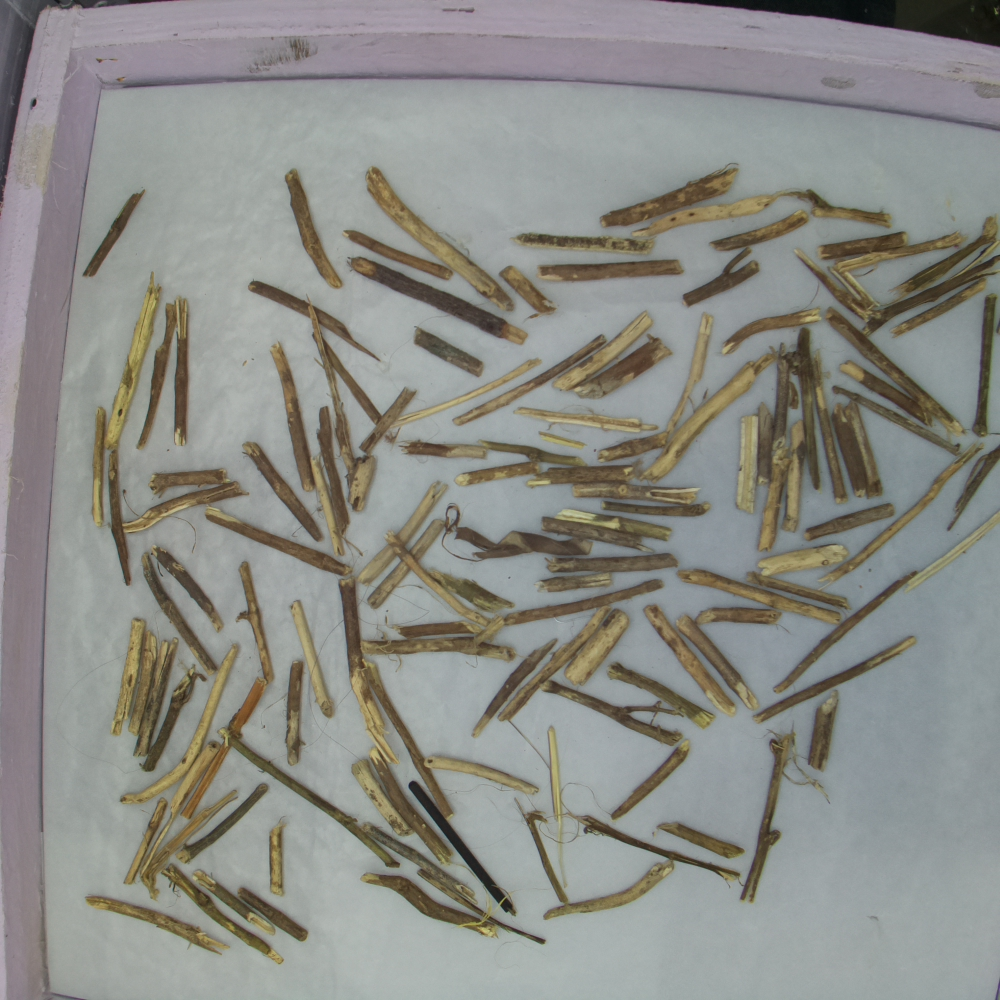kadi: (221, 726, 395, 865), (365, 159, 511, 312), (343, 251, 533, 347), (780, 572, 921, 688), (750, 635, 919, 724), (410, 778, 514, 912), (738, 730, 806, 913), (584, 811, 743, 885), (247, 275, 377, 362), (181, 687, 265, 815), (545, 677, 686, 746), (142, 746, 216, 875), (418, 871, 545, 945), (385, 535, 488, 624), (360, 869, 495, 936), (594, 169, 740, 230), (647, 603, 729, 711), (362, 481, 444, 585), (144, 558, 216, 674), (554, 310, 658, 390), (281, 168, 345, 295), (541, 863, 680, 921), (88, 891, 219, 950), (679, 611, 761, 705), (471, 642, 553, 735), (243, 446, 322, 541), (901, 220, 1000, 293), (915, 503, 1000, 588), (78, 190, 152, 286), (838, 358, 937, 428), (363, 524, 444, 608), (132, 299, 175, 454), (271, 344, 313, 500), (311, 309, 354, 458), (576, 333, 676, 397), (425, 747, 545, 799), (796, 246, 877, 322), (156, 546, 224, 634), (668, 314, 719, 430), (142, 675, 199, 776), (410, 316, 497, 381), (614, 745, 692, 817), (288, 604, 337, 715), (676, 252, 770, 308), (896, 281, 986, 336), (460, 524, 604, 558), (641, 190, 779, 222), (236, 563, 274, 677), (336, 581, 368, 712), (948, 447, 1000, 527), (356, 390, 418, 457), (370, 641, 521, 668), (568, 612, 626, 682), (108, 623, 143, 736), (657, 815, 748, 858), (799, 325, 823, 488), (240, 885, 307, 942), (124, 795, 166, 883), (140, 644, 172, 758), (309, 461, 345, 560), (106, 450, 132, 587), (516, 400, 651, 426), (555, 508, 676, 537), (509, 229, 658, 252), (804, 504, 891, 539), (815, 229, 917, 256), (759, 444, 784, 554), (506, 266, 558, 318), (538, 258, 680, 277), (546, 722, 569, 836), (171, 297, 188, 451), (813, 198, 900, 228), (975, 295, 994, 432), (128, 632, 153, 733), (286, 658, 307, 768), (756, 547, 854, 570), (551, 552, 681, 569), (821, 408, 845, 500), (404, 434, 492, 459), (91, 407, 108, 536), (813, 692, 836, 786), (595, 501, 713, 519), (596, 434, 672, 460), (539, 469, 642, 488), (856, 403, 877, 496), (533, 574, 625, 594), (739, 420, 758, 516), (154, 471, 236, 492), (774, 343, 791, 434), (267, 826, 285, 898), (396, 623, 475, 638), (541, 429, 588, 450)
